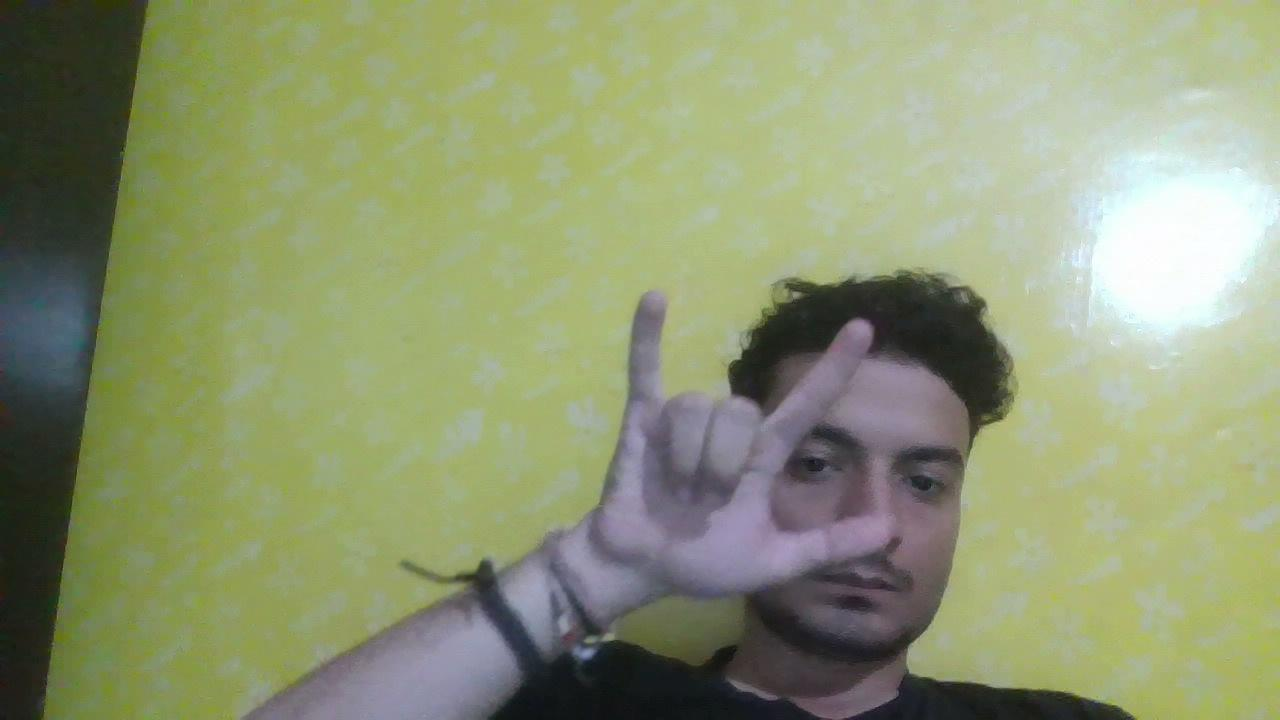Loveyou: (510, 205, 927, 670)
